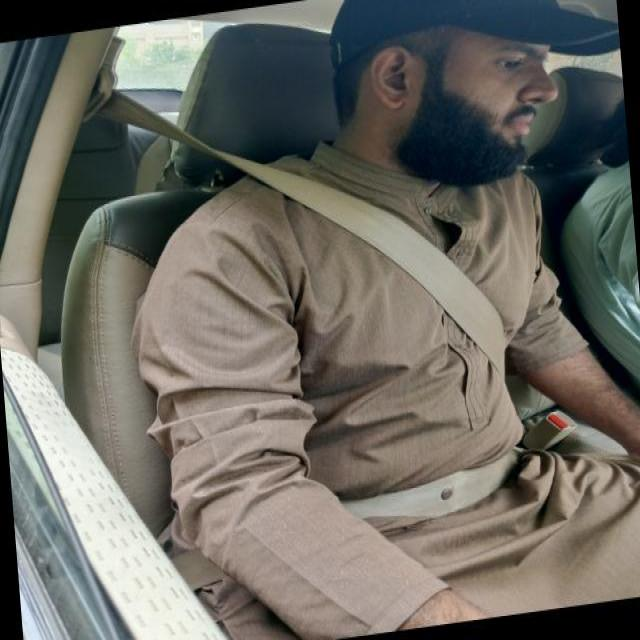seatbelt: (67, 20, 627, 580)
